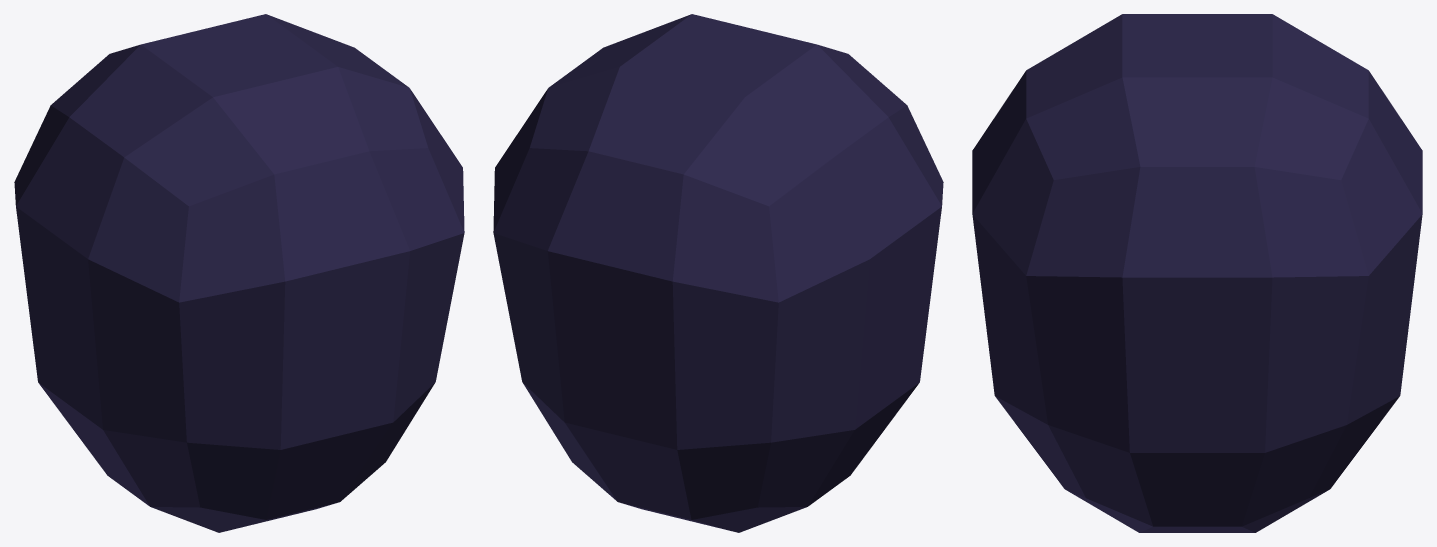
The model's file is morazul.fbx.
The picture shows the model from 3 angles, left to right: view 1: azimuth 30°, elevation 25°; view 2: azimuth 150°, elevation 25°; view 3: azimuth 270°, elevation 25°; orthographic projection. The views are drawn at different scales.
Parts seen in each view (by area): view 1: morazul; view 2: morazul; view 3: morazul.
Part boxes in pixels (box(x1,y1,x2,y2)): morazul: box(14, 14, 464, 532); morazul: box(493, 14, 943, 532); morazul: box(972, 14, 1422, 532).
Size of the model in its own units: 2.43 by 2.76 by 2.43.
